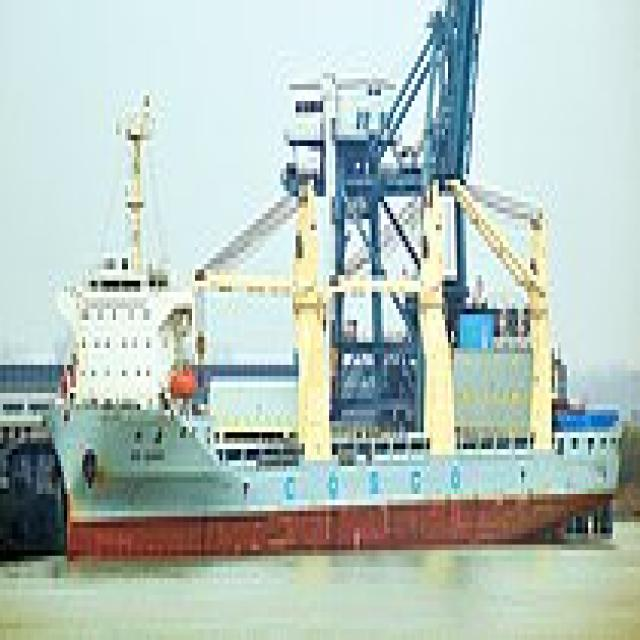Cargo: (39, 247, 618, 561)
